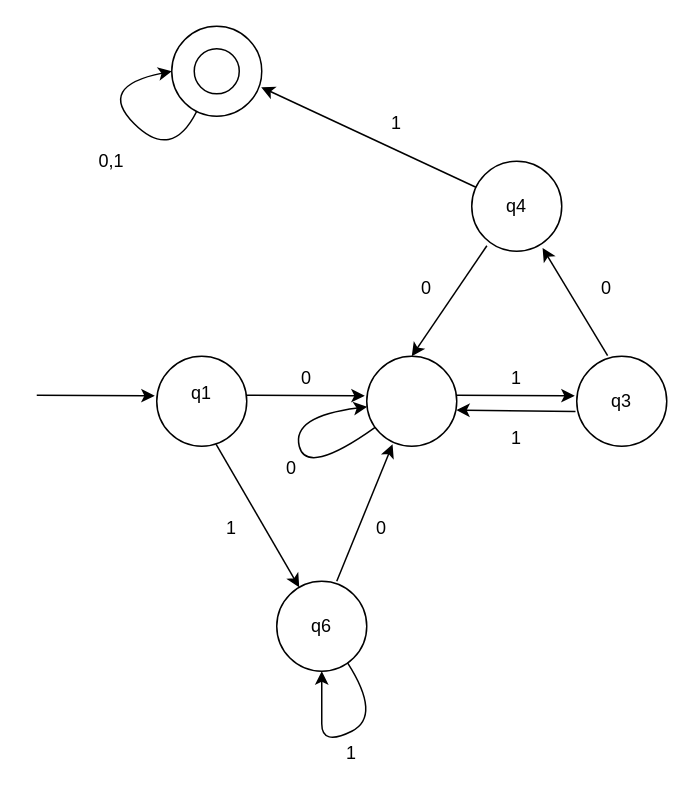
This 693x803 diagram has some shape labels left out. Each missing label, with the box of its shape:
q2: (365, 355, 457, 446)
q5: (193, 47, 239, 94)
